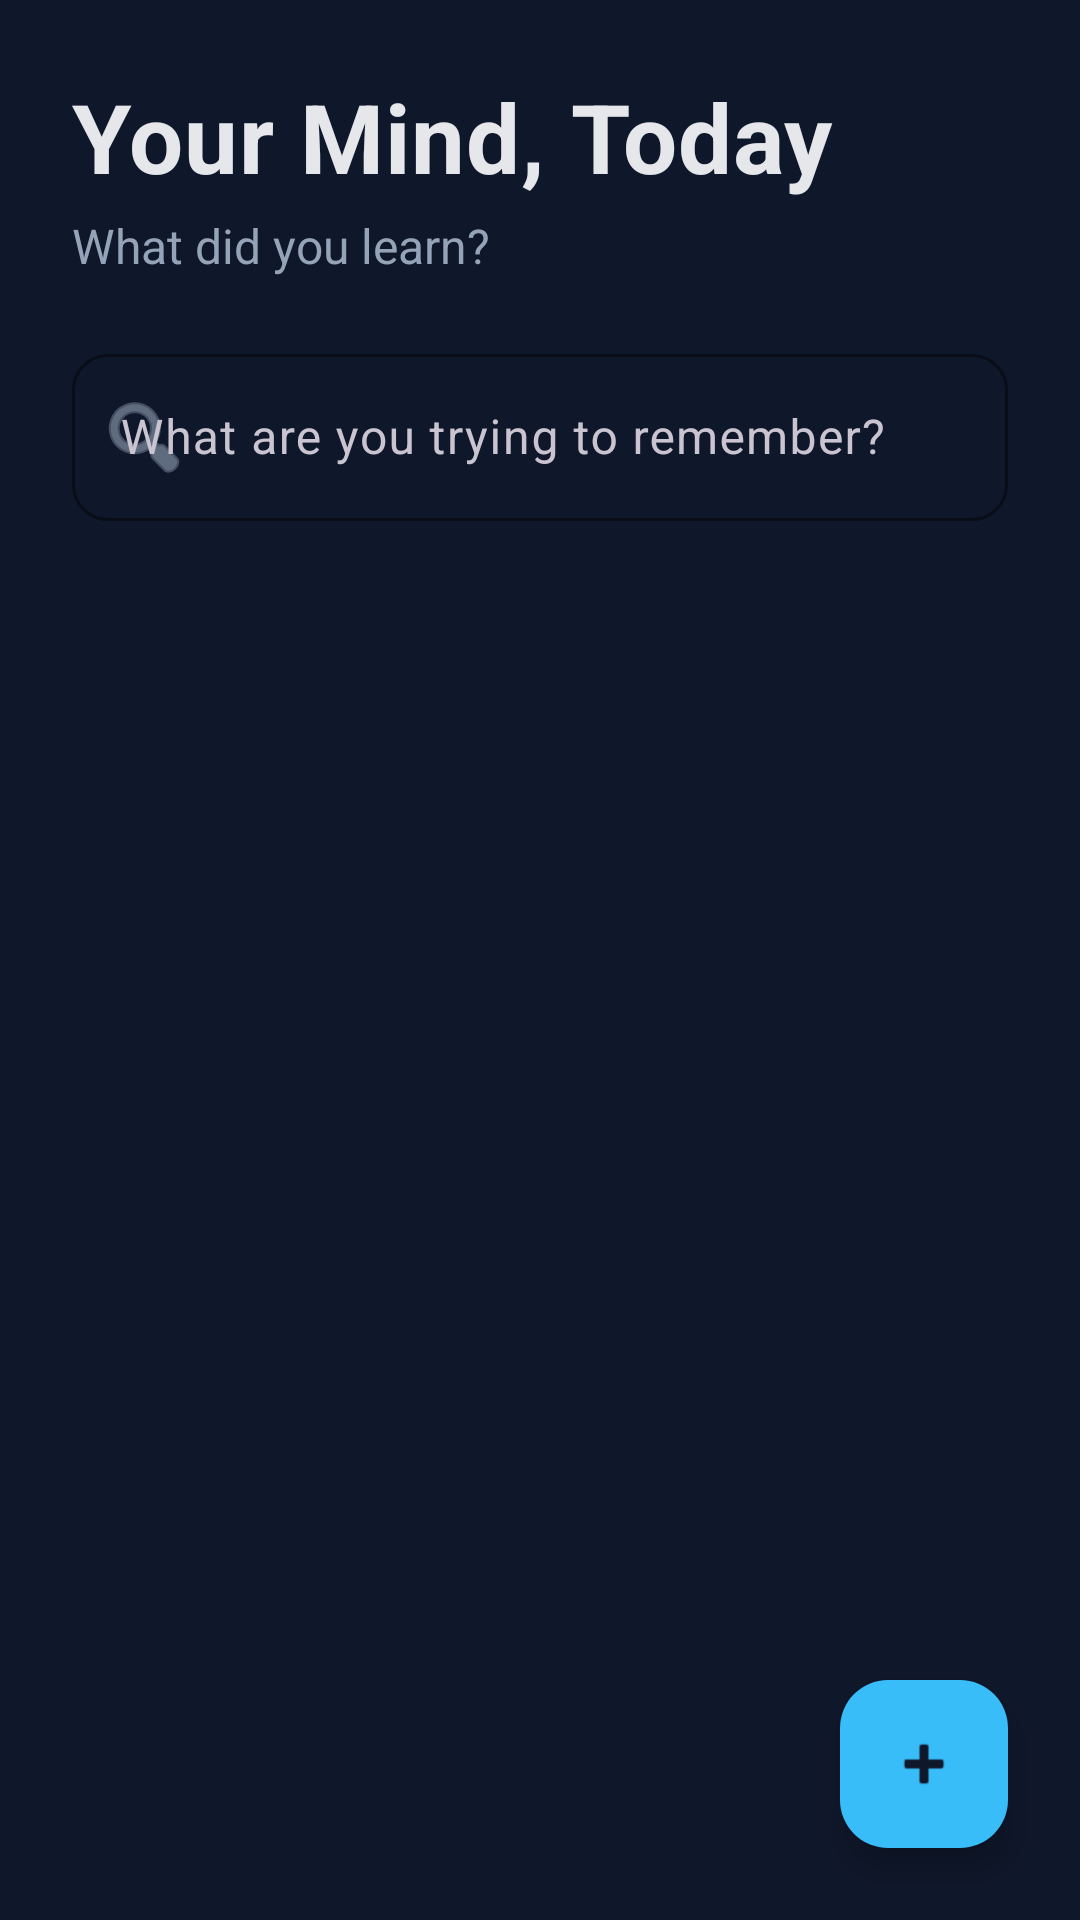

Named icons in this screenshot (1080 x 1920) and their centers, [x,y]:
New Thought: [924,1764]
